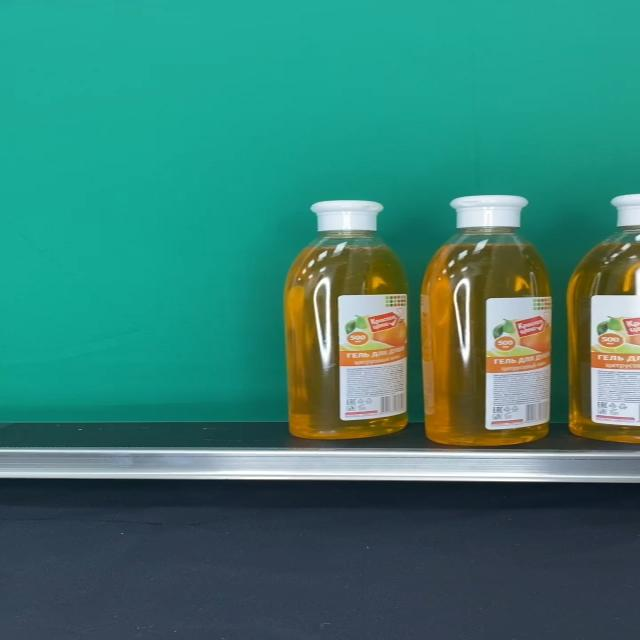Bottle: (422, 196, 552, 446), (284, 198, 408, 440)
Cap: (451, 196, 528, 229), (310, 200, 384, 232)
